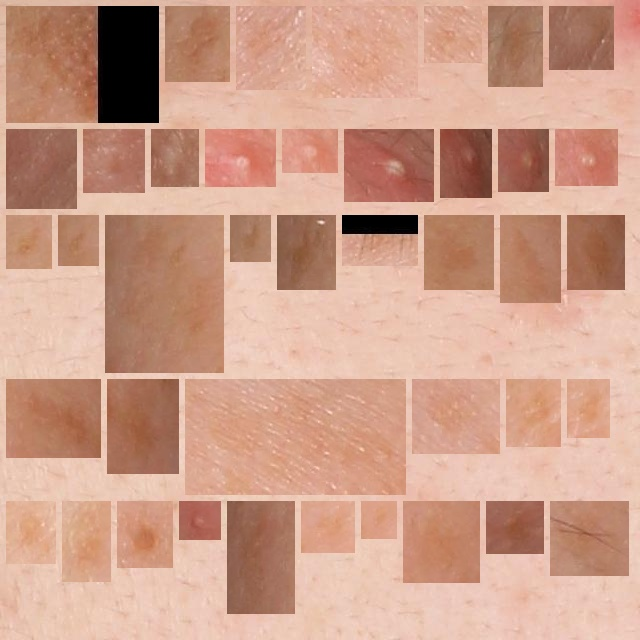hypertrophic_scar: (14, 137, 69, 201), (557, 14, 606, 62), (91, 137, 137, 185), (159, 137, 191, 179)
melasma: (193, 387, 398, 487), (113, 223, 216, 365), (14, 14, 151, 115), (320, 14, 410, 90), (235, 509, 287, 606), (14, 387, 93, 450), (115, 387, 171, 466), (420, 387, 492, 446), (411, 509, 472, 575), (558, 509, 621, 568), (244, 14, 298, 82), (508, 223, 553, 295), (432, 223, 486, 282), (173, 14, 222, 74), (285, 223, 328, 282), (496, 14, 535, 79), (575, 223, 617, 282), (70, 509, 103, 574), (350, 223, 410, 258), (125, 509, 165, 560), (514, 387, 553, 439), (432, 14, 474, 55), (14, 509, 48, 556), (494, 509, 536, 546), (309, 509, 347, 545), (575, 387, 602, 430), (14, 223, 44, 261), (66, 223, 91, 258), (238, 223, 263, 254), (369, 509, 389, 531)
pustule: (352, 137, 426, 194), (213, 137, 268, 179), (563, 137, 610, 178), (448, 137, 484, 190), (506, 137, 541, 184), (290, 137, 330, 165), (187, 509, 213, 532)
